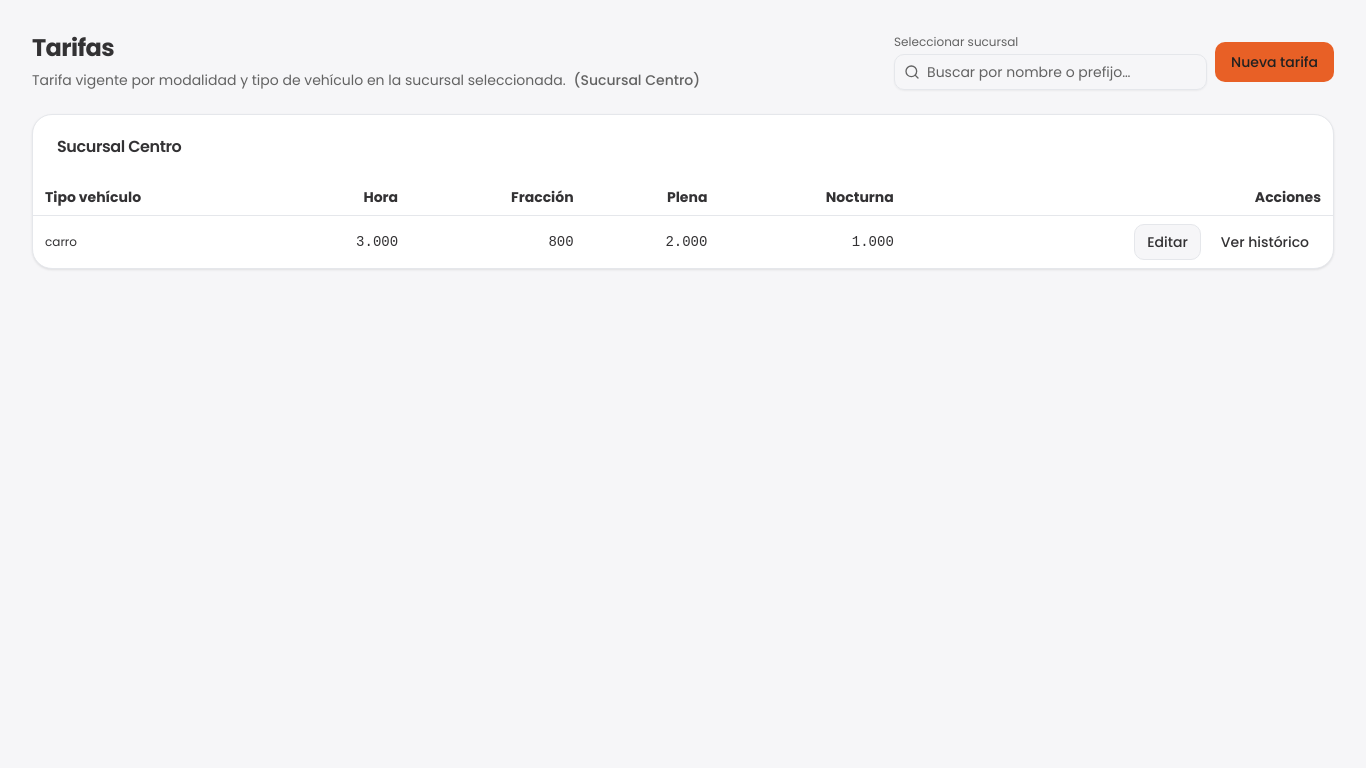
Test case: Tarifas page › TP-hist-1: el panel histórico muestra la modalidad (Hora/Fracción/Plena/Nocturna) por cada version
Step 1. Click the button "Ver histórico" → click(1265, 242), box [1209,224,1321,260]
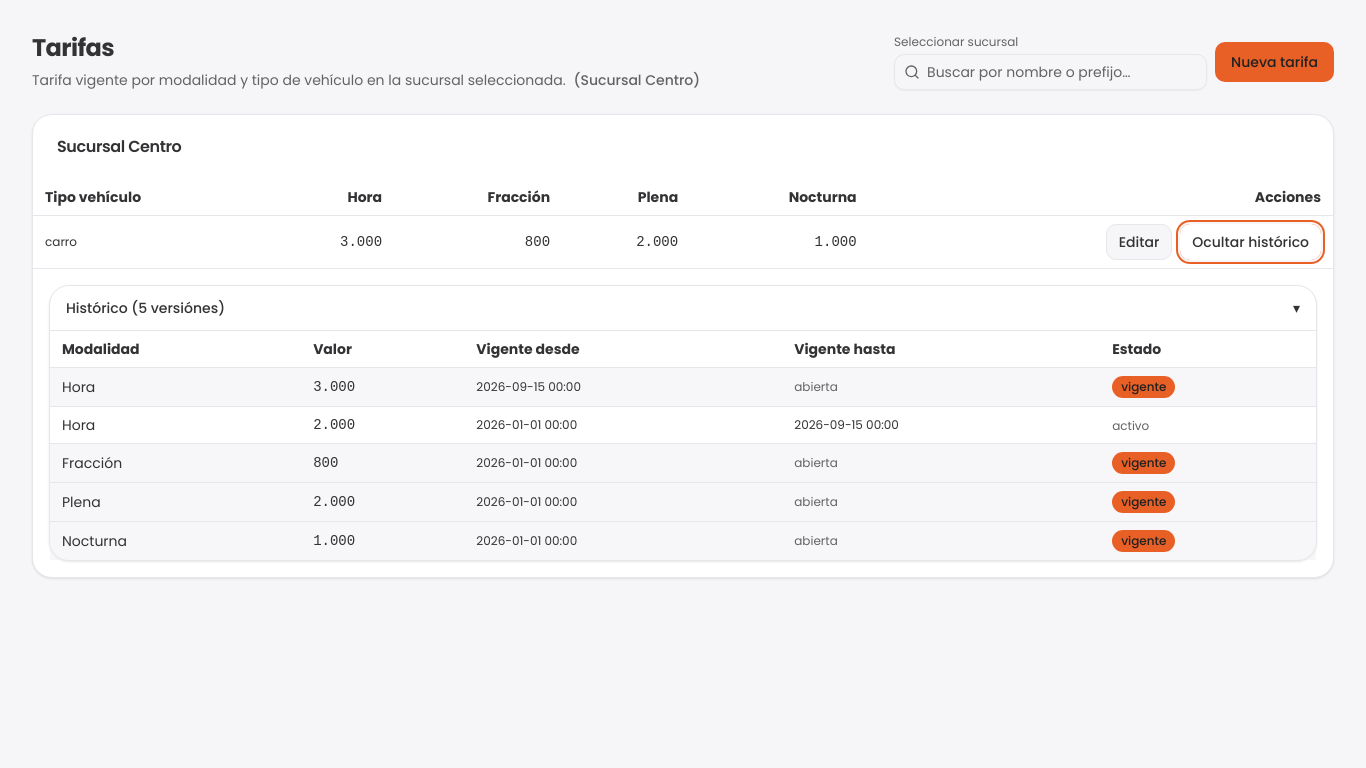
Check: the column heading with test id "version-history-modalidad-header" reads "Modalidad", box [62,339,140,359]
